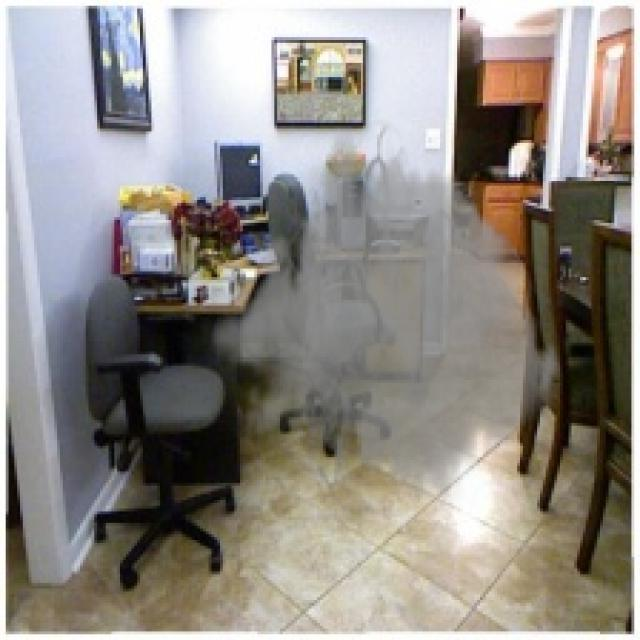Smoke: (208, 117, 563, 534)
